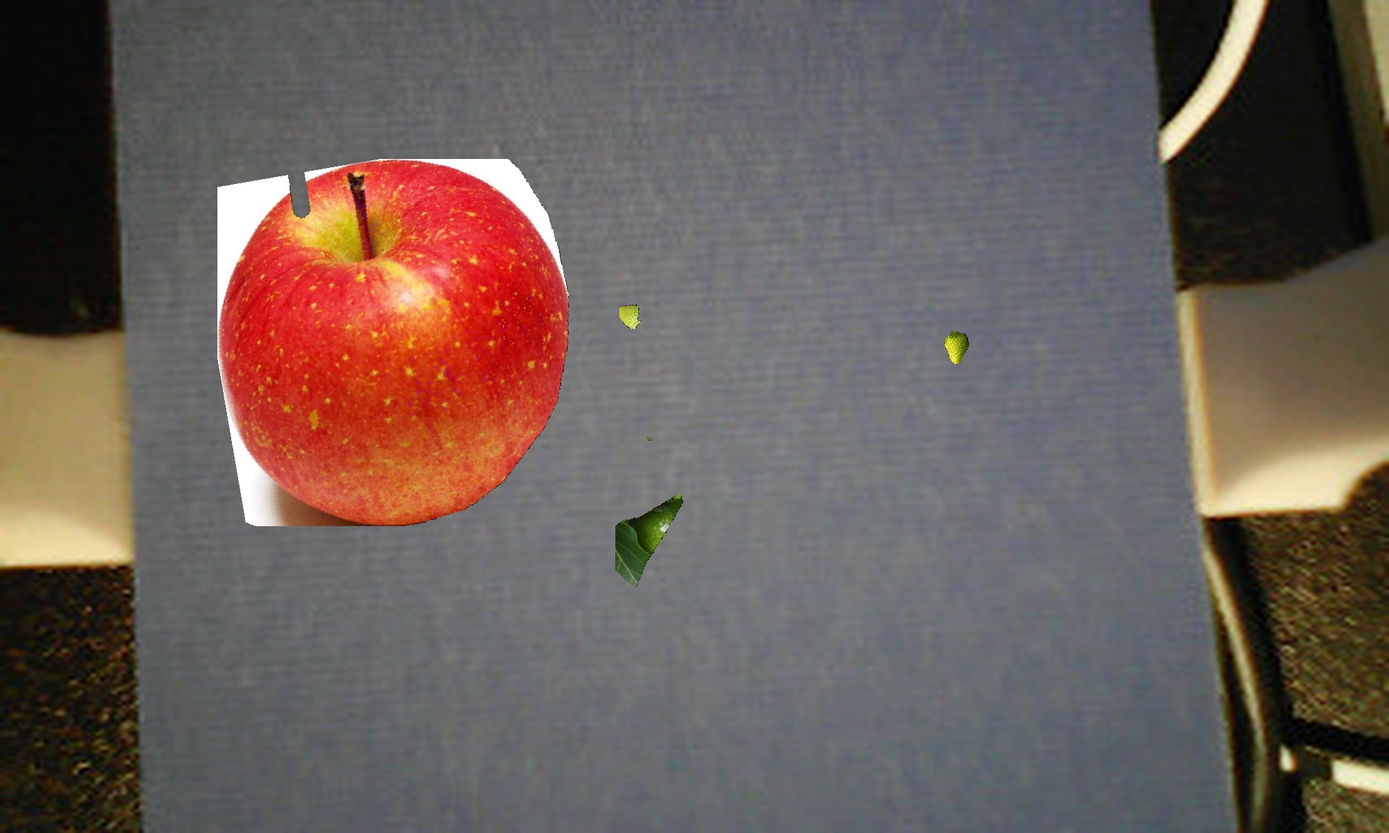not strawberry: (212, 164, 580, 535), (600, 500, 725, 605)
strawberry: (939, 322, 1015, 370)
